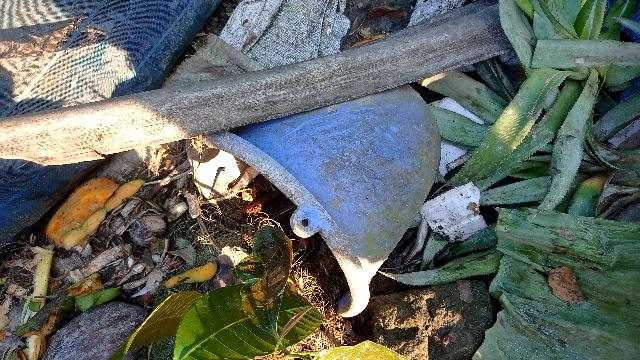hardplastic: (205, 16, 499, 323)
